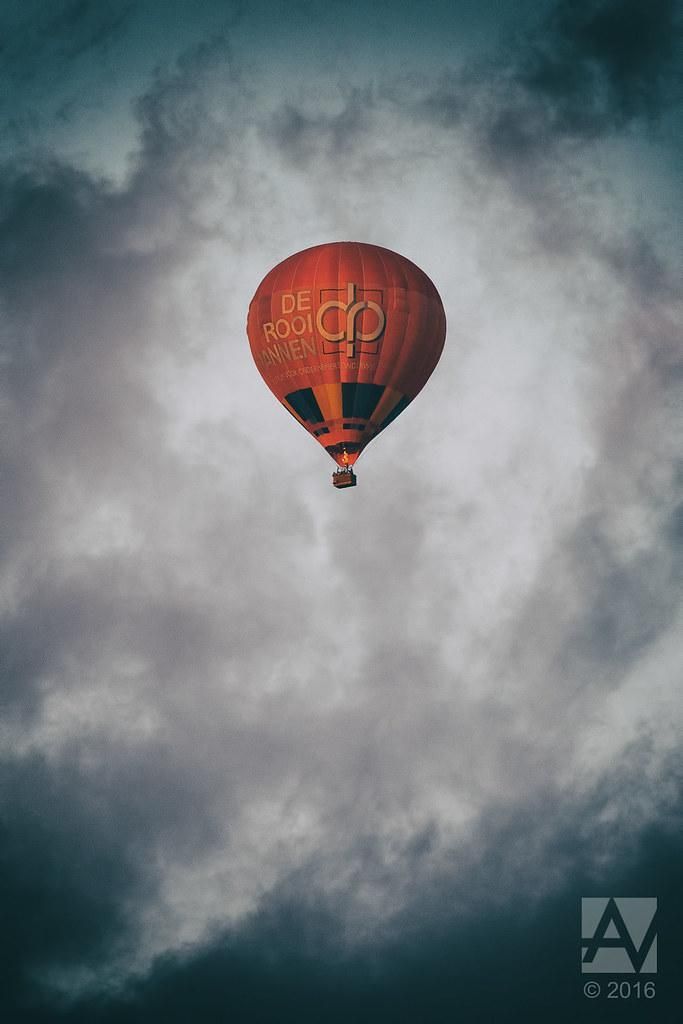balloon: (246, 240, 448, 490)
